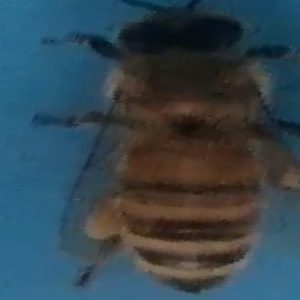bee: (37, 2, 298, 295)
